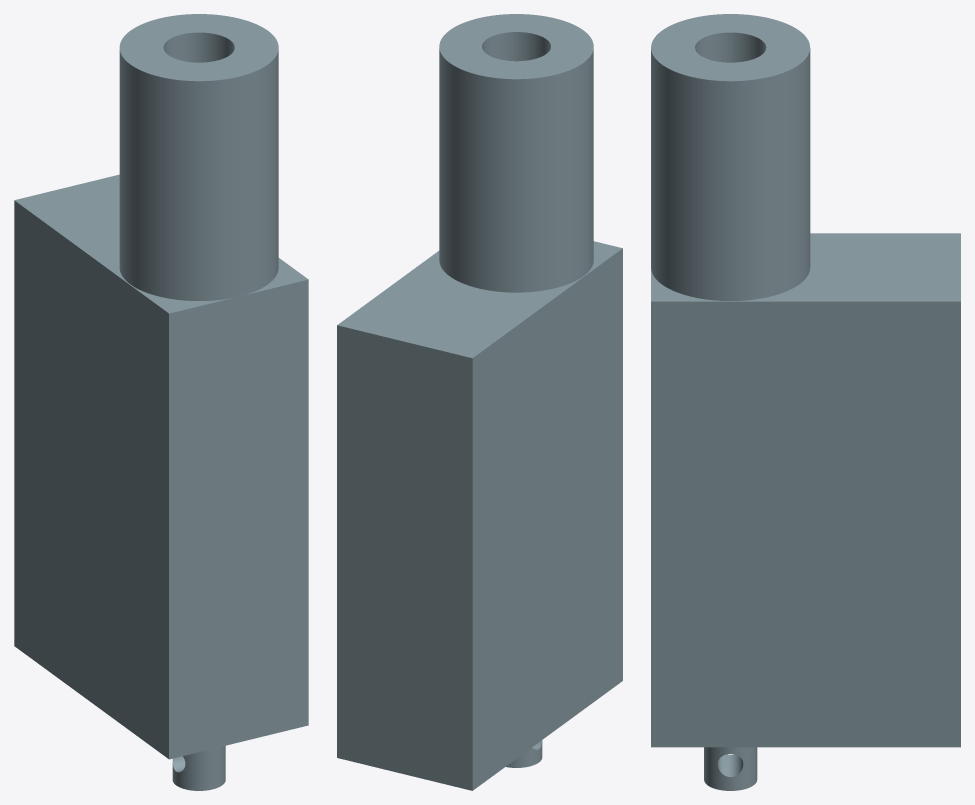
The model's file is actuator_fixed_interface.glb.
The picture shows the model from 3 angles, left to right: view 1: azimuth 30°, elevation 25°; view 2: azimuth 150°, elevation 25°; view 3: azimuth 270°, elevation 25°; orthographic projection. The views are drawn at different scales.
Parts seen in each view (by area): view 1: actuator_fixed_interface; view 2: actuator_fixed_interface; view 3: actuator_fixed_interface.
Boxes of the visible parts, x1,y1,x2,y2 form: actuator_fixed_interface: [14, 14, 308, 790]; actuator_fixed_interface: [337, 14, 622, 790]; actuator_fixed_interface: [651, 14, 960, 790].
Bounding box in the file's own units: 0.077 × 0.3859 × 0.148.
